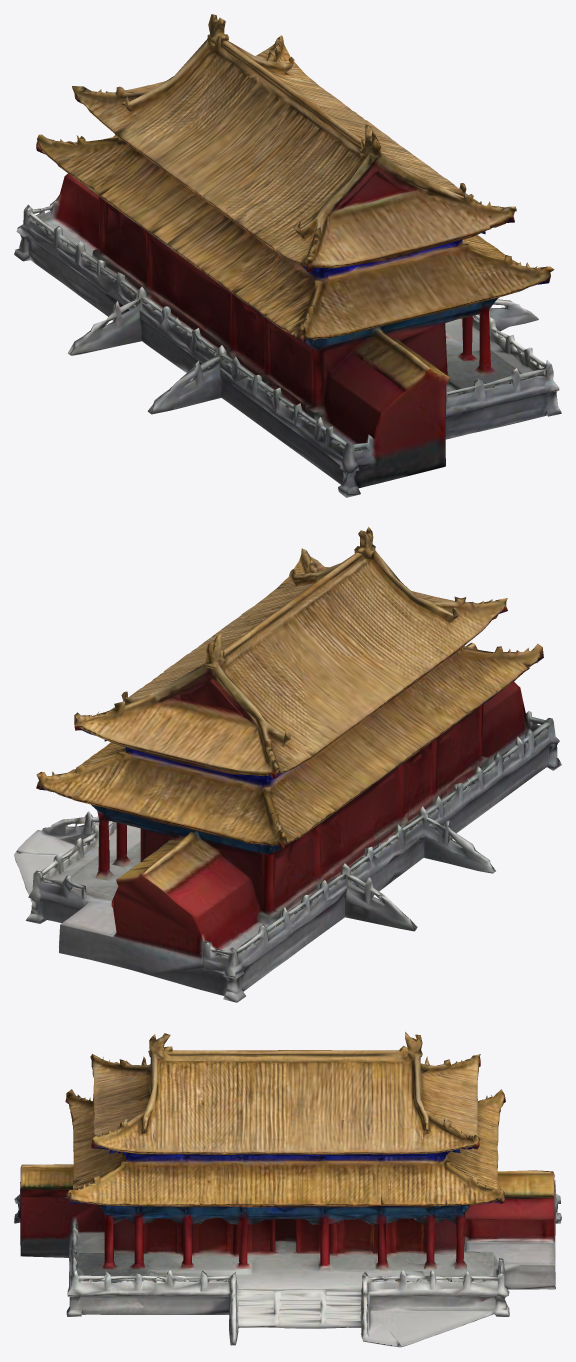
File: palace-low.glb
3 views of the same model, one above another, from view 1: azimuth 30°, elevation 25°; view 2: azimuth 150°, elevation 25°; view 3: azimuth 270°, elevation 25° (orthographic). The views are drawn at different scales.
Size of the model in its own units: 0.6762 by 0.4648 by 0.9995.
1 material, 1 textured.
